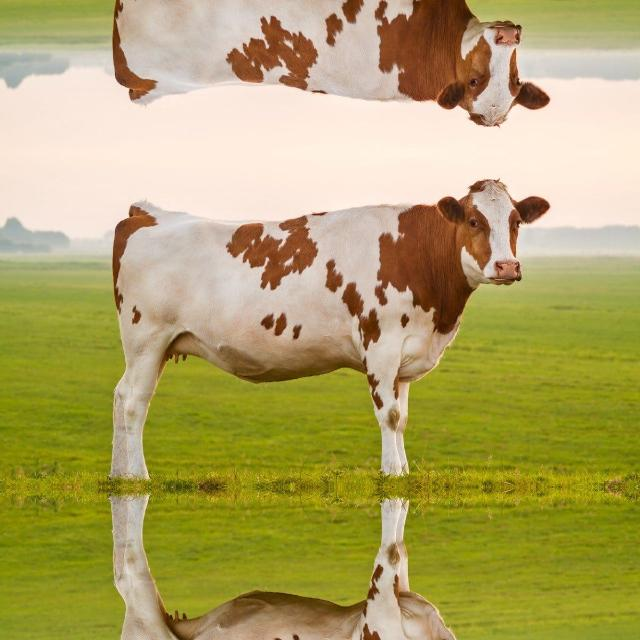obstacle: (74, 178, 564, 486), (74, 487, 563, 640), (74, 0, 563, 126)
